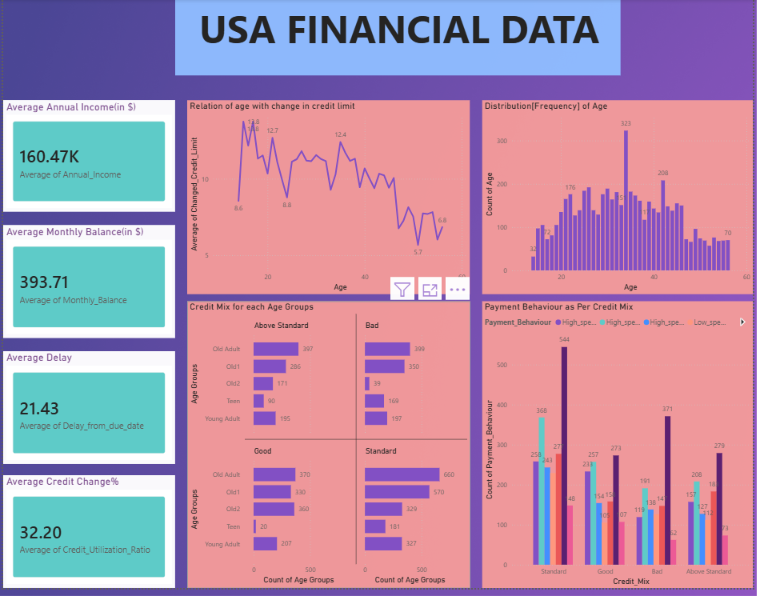

Layout of this report page (visuals, bound fields, positions):
{"tool":"powerbi","page":{"name":"Page 1","canvas":[1400,1100],"ordinal":0},"visuals":[{"type":"cardVisual","title":"Average Annual Income(in $)","fields":{"Data":["Avg(df.Annual_Income)"]},"box":[0,188.8,321.2,208.3],"z":0},{"type":"cardVisual","title":"Average Monthly Balance(in $)","fields":{"Data":["Avg(df.Monthly_Balance)"]},"box":[0,422.4,321.2,210.2],"z":1000},{"type":"cardVisual","title":"Average Delay","fields":{"Data":["Avg(df.Delay_from_due_date)"]},"box":[0,658,321.2,210.2],"z":2000},{"type":"cardVisual","title":"Average Credit Change%","fields":{"Data":["Avg(df.Credit_Utilization_Ratio)"]},"box":[0,889.6,321.2,210.2],"z":3000},{"type":"textbox","box":[322,0,832,142],"z":4000},{"type":"lineChart","title":"Relation of age with change in credit limit","fields":{"Category":["df.Age"],"Y":["Avg(df.Changed_Credit_Limit)"]},"box":[344,188,528,362],"z":5000},{"type":"clusteredColumnChart","title":"Distribution[Frequency] of Age","fields":{"Category":["df.Age"],"Y":["CountNonNull(df.Age)"]},"box":[894,188,506,362],"z":6000},{"type":"clusteredBarChart","title":"Credit Mix for each Age Groups","fields":{"Category":["df.Age Groups"],"Y":["CountNonNull(df.Age Groups)"],"Rows":["df.Credit_Mix"]},"box":[344,564,528,536],"z":7000},{"type":"clusteredColumnChart","title":"Payment Behaviour as Per Credit Mix","fields":{"Category":["df.Credit_Mix"],"Y":["CountNonNull(df.Payment_Behaviour)"],"Series":["df.Payment_Behaviour"]},"box":[894,564,506,536],"z":8000}]}

Visuals, with their boxes in screenshot pixels (x1, y1, x2, y2), scaled from the page's 1400x1100 canvas onto the 757x596 screenshot:
"Average Annual Income(in $)" cardVisual: 0,102,174,215
"Average Monthly Balance(in $)" cardVisual: 0,229,174,343
"Average Delay" cardVisual: 0,357,174,470
"Average Credit Change%" cardVisual: 0,482,174,595
textbox: 174,0,624,77
"Relation of age with change in credit limit" lineChart: 186,102,472,298
"Distribution[Frequency] of Age" clusteredColumnChart: 483,102,756,298
"Credit Mix for each Age Groups" clusteredBarChart: 186,306,472,595
"Payment Behaviour as Per Credit Mix" clusteredColumnChart: 483,306,756,595
